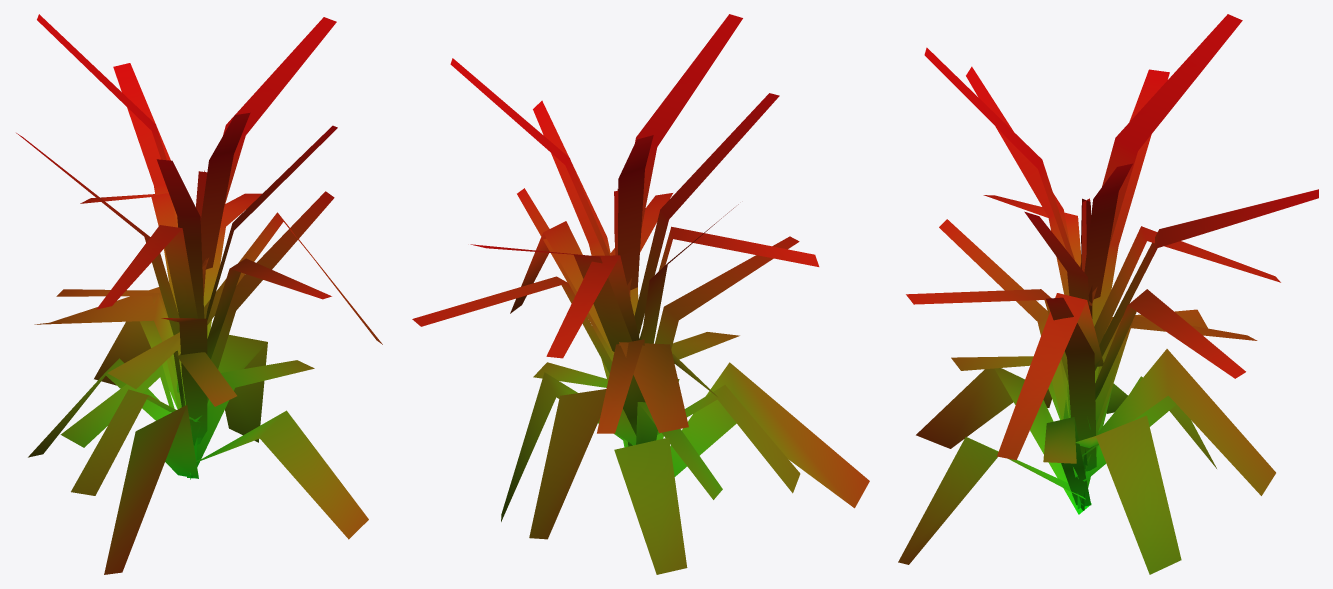
Rendered from Var2_LOD3.fbx.
3 renders of one model, left to right at view 1: azimuth 30°, elevation 25°; view 2: azimuth 150°, elevation 25°; view 3: azimuth 270°, elevation 25°, orthographic. The views are drawn at different scales.
Parts seen in each view (by area): view 1: _4c7c_Var2_LOD3; view 2: _4c7c_Var2_LOD3; view 3: _4c7c_Var2_LOD3.
Boxes of the visible parts, box(x1,y1,x2,y2) form: _4c7c_Var2_LOD3: box(16, 14, 382, 574); _4c7c_Var2_LOD3: box(412, 14, 869, 574); _4c7c_Var2_LOD3: box(898, 14, 1318, 574).
Size of the model in its own units: 35.49 by 48.21 by 39.29.
